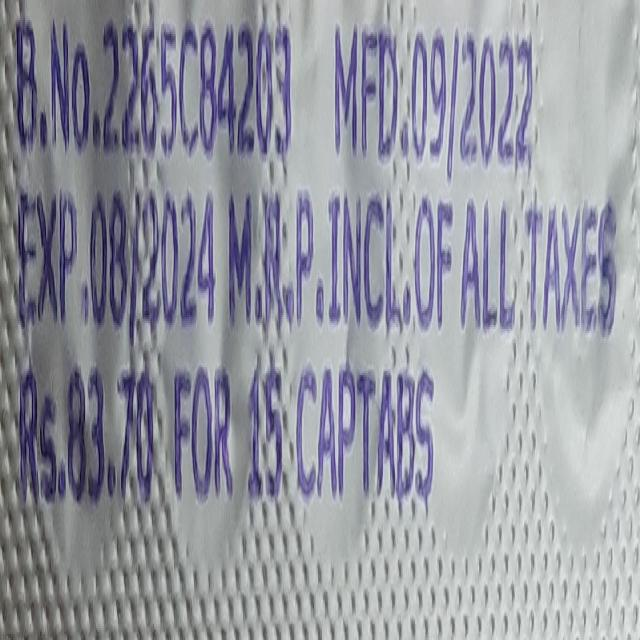sentence: (16, 141, 618, 338), (15, 6, 531, 183), (19, 355, 435, 570)
